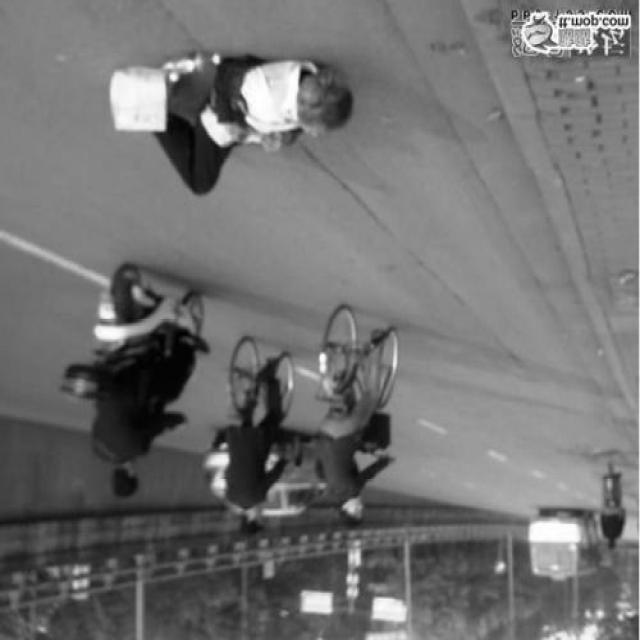nofight: (94, 56, 352, 214), (96, 313, 202, 503), (219, 342, 296, 530), (318, 352, 390, 530), (596, 482, 631, 549)
